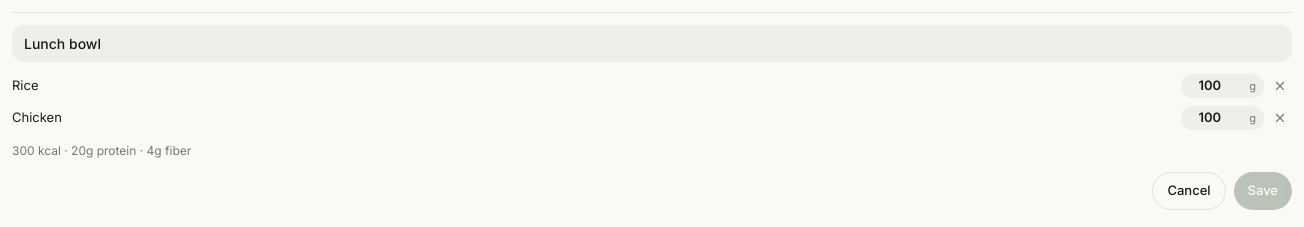
MyMealEditor › updates totals when grams change
Expected: the text with test id "editor-totals" shows "300 kcal", [12,143,191,158]
Replace the text in the number field named "Grams of Chicken" with "50": (1217, 118) [1189,108,1245,128]
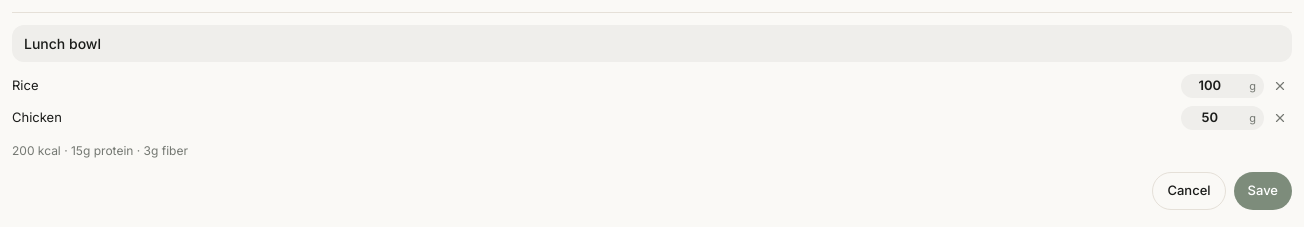
Now the text with test id "editor-totals" shows "200 kcal", box [12,143,188,158]
